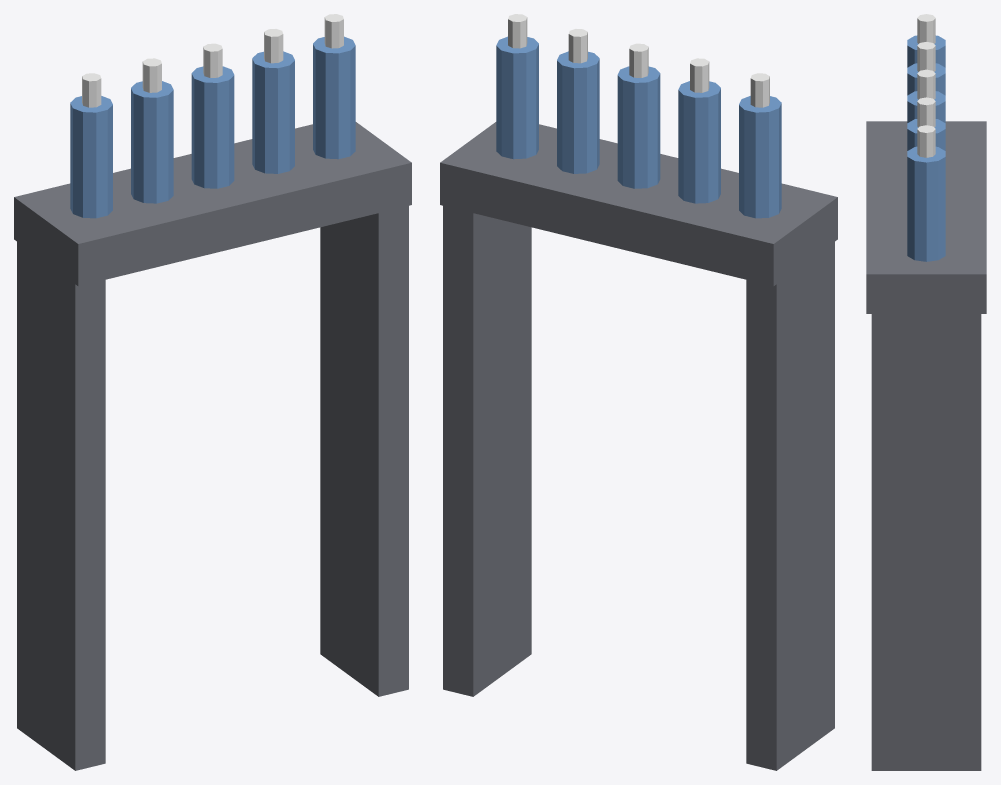
The model's file is bottle_rack.glb.
3 renders of one model, left to right at view 1: azimuth 30°, elevation 25°; view 2: azimuth 150°, elevation 25°; view 3: azimuth 270°, elevation 25°, orthographic. The views are drawn at different scales.
Parts seen in each view (by area): view 1: water-bottle-rack; view 2: water-bottle-rack; view 3: water-bottle-rack.
Boxes of the visible parts, x1,y1,x2,y2 form: water-bottle-rack: (14,14,411,770); water-bottle-rack: (440,14,837,770); water-bottle-rack: (866,14,986,770).
Bounding box in the file's own units: 0.66 × 1.25 × 0.22.
